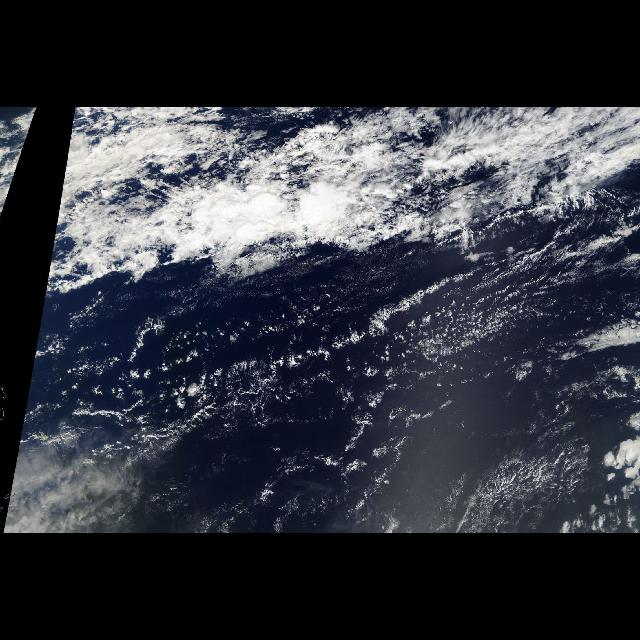Fish: (41, 111, 556, 317), (17, 110, 39, 168)
Sugar: (168, 282, 600, 503)
